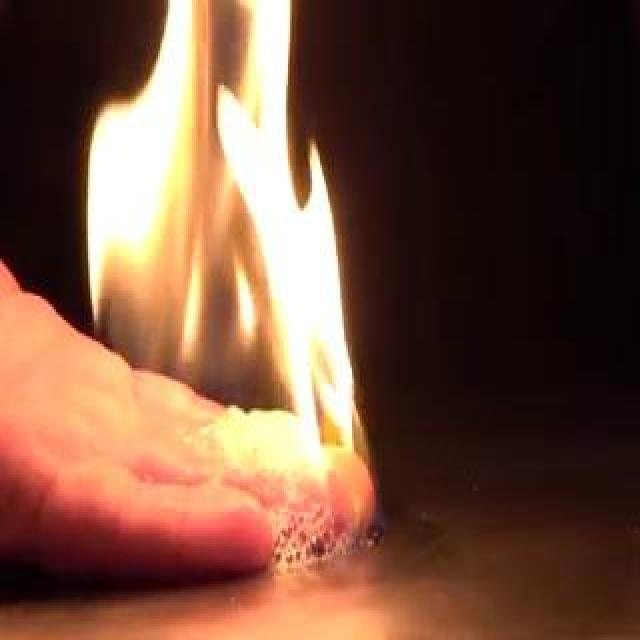Fire: (75, 3, 359, 517)
